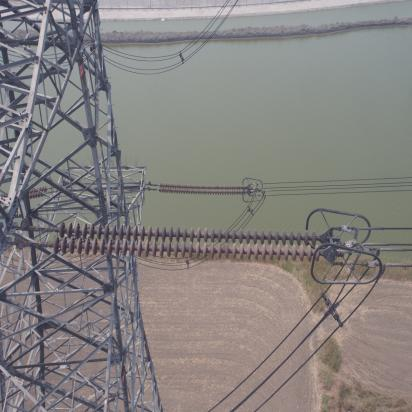insulator: (34, 220, 330, 263), (152, 182, 250, 197)
